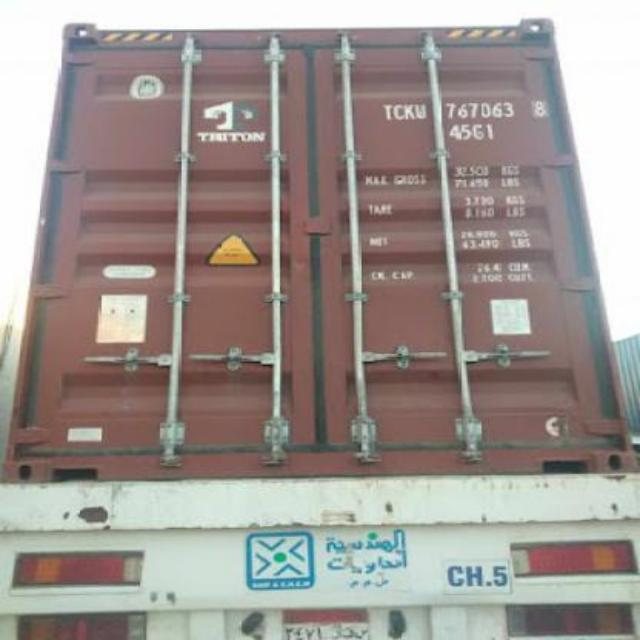0: (478, 100, 492, 120)
3: (504, 100, 518, 124)
6: (452, 98, 468, 120), (490, 98, 502, 122)
7: (442, 99, 456, 117), (468, 98, 478, 118)
8: (534, 99, 550, 117)
C: (394, 103, 404, 127)
K: (404, 100, 414, 124)
T: (384, 100, 394, 124)
U: (416, 100, 429, 124)
